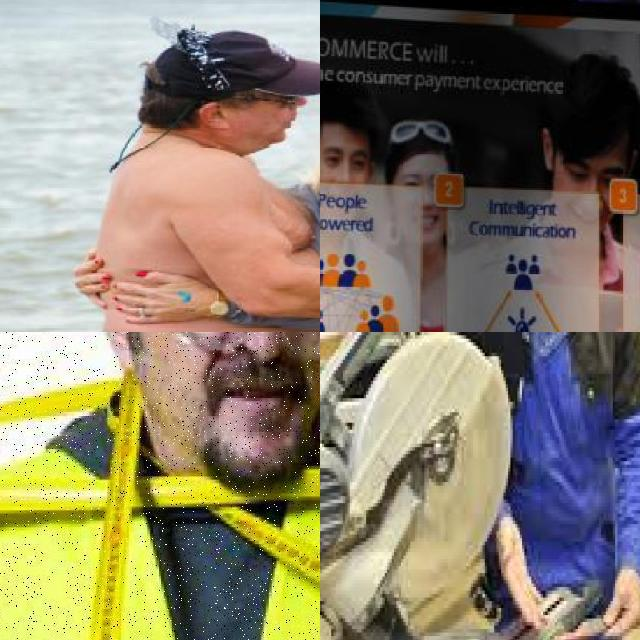No_Ear-Protection: (78, 332, 146, 385)
face_nomask: (143, 332, 320, 491), (401, 175, 446, 234)
glasses: (387, 116, 455, 144)
hand_noglove: (117, 256, 222, 332), (70, 247, 121, 310)
person: (451, 332, 640, 640)
